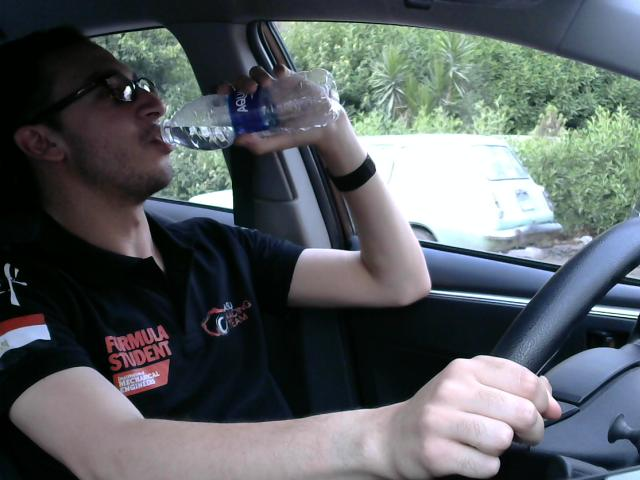Drinking: (157, 62, 350, 151)
